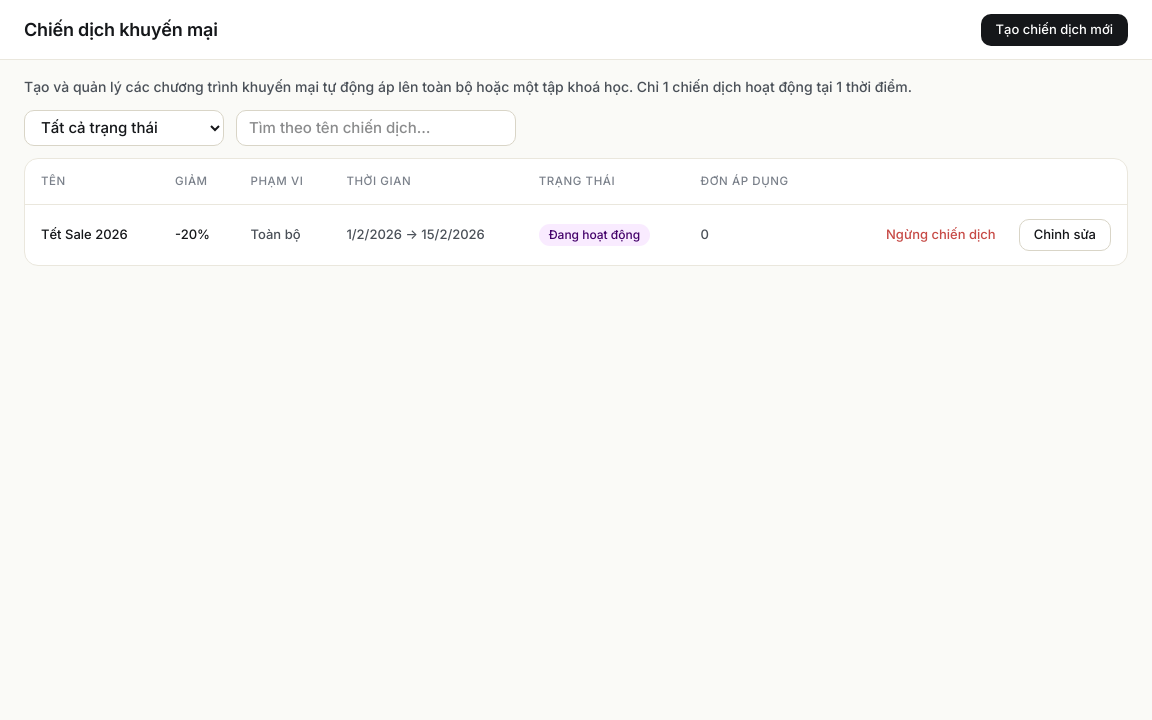
Test: AdminCampaignsPage › shows the overlap error when the RPC raises campaign_overlap_with_existing
The image size is (1152, 720).
Click the button with test id "admin-campaigns-create-btn" at (1054, 30), box [980,14,1128,46]
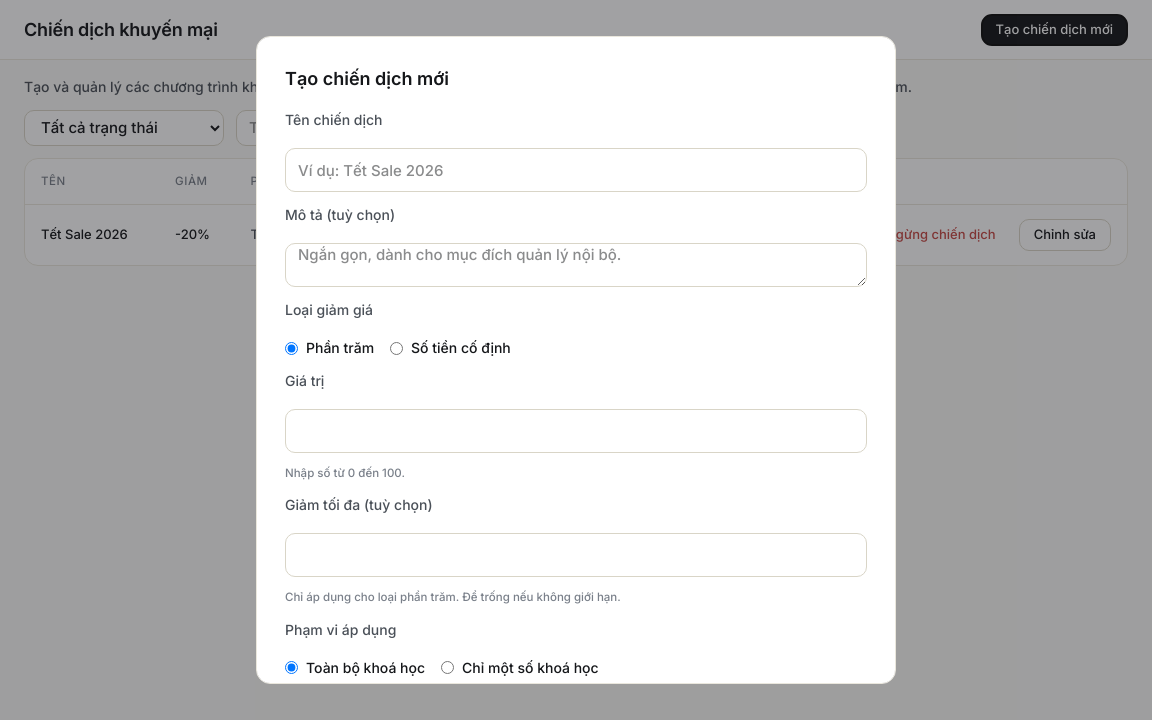
Type "Overlap" into the field with test id "campaign-name-input" at (576, 170), box [285,148,867,192]
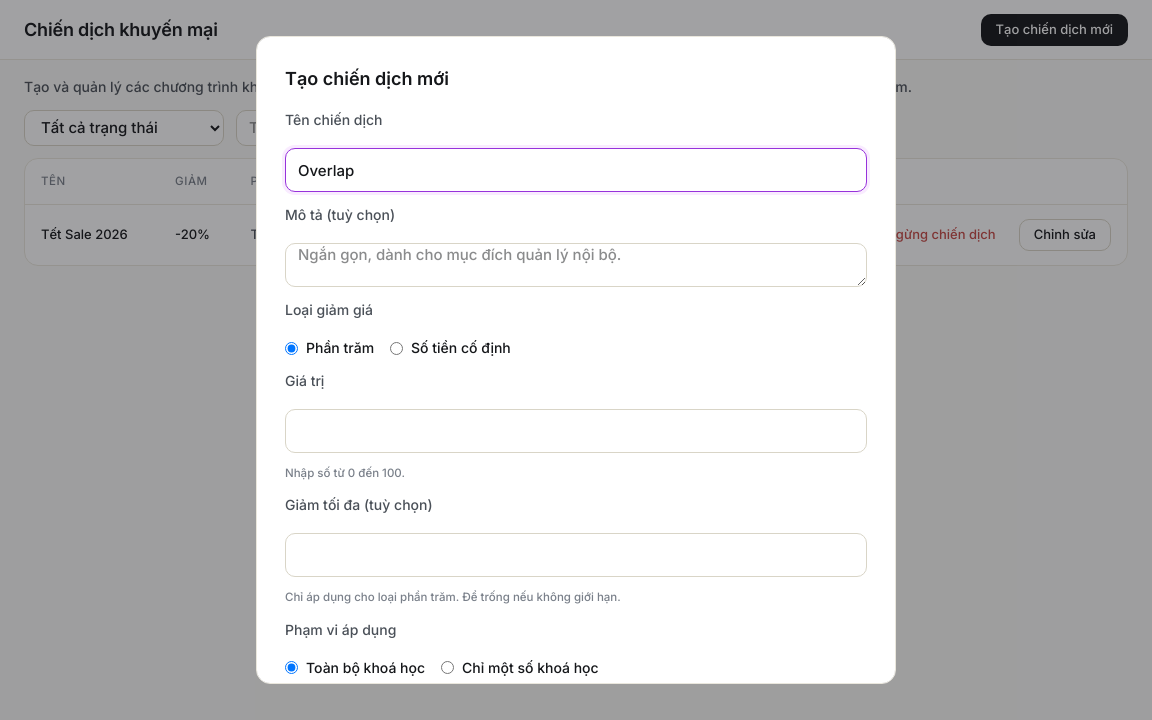
Type "10" into the field with test id "campaign-discount-value-input" at (576, 431), box [285,409,867,453]
(page scrolled)
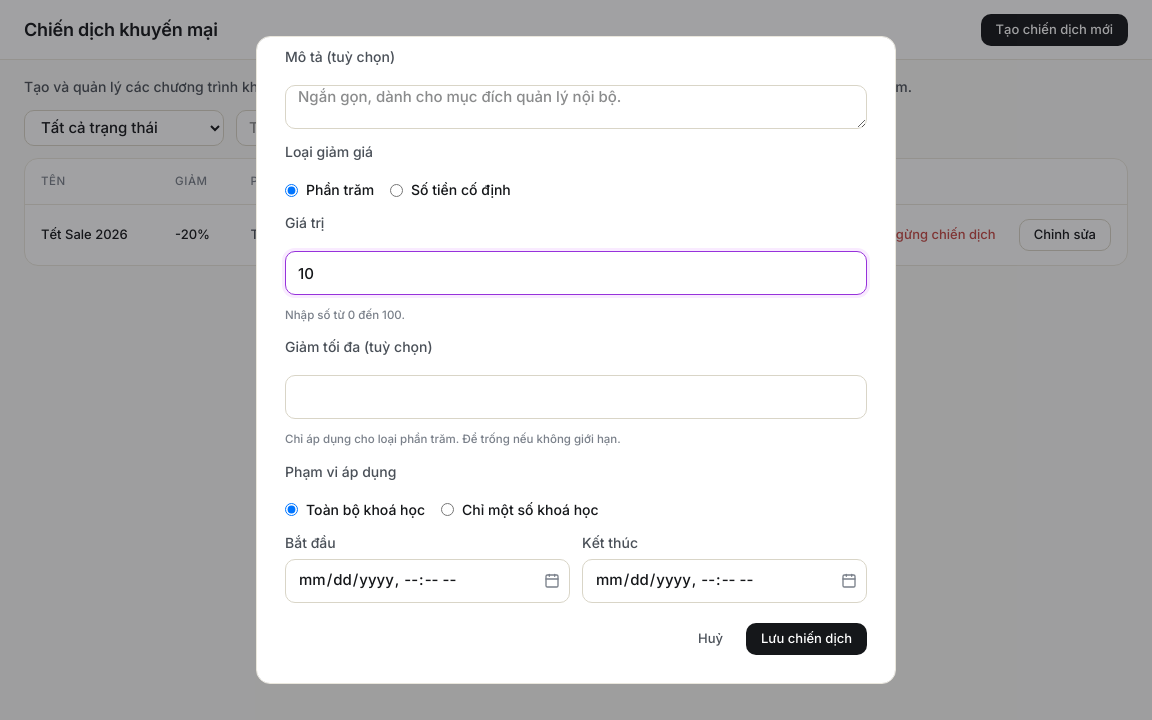
Type "2026-02-05T00:00" into the field with test id "campaign-starts-at-input" at (428, 580), box [285,558,570,602]
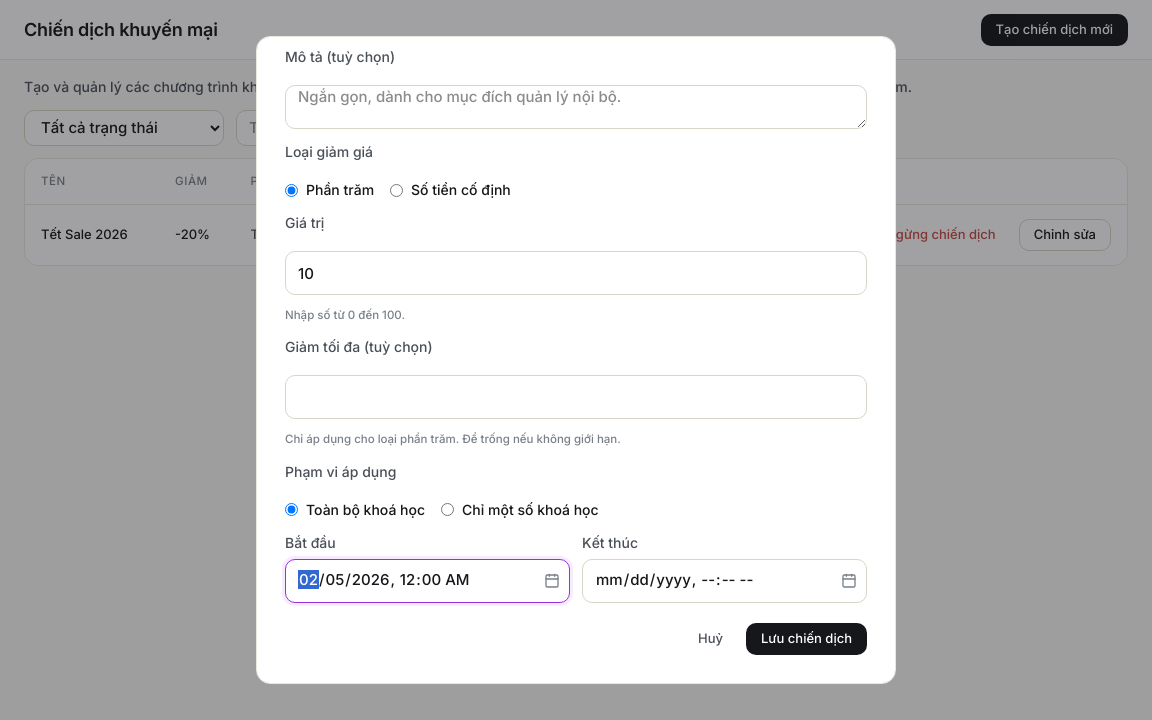
Type "2026-02-20T00:00" into the field with test id "campaign-ends-at-input" at (724, 580), box [582,558,867,602]
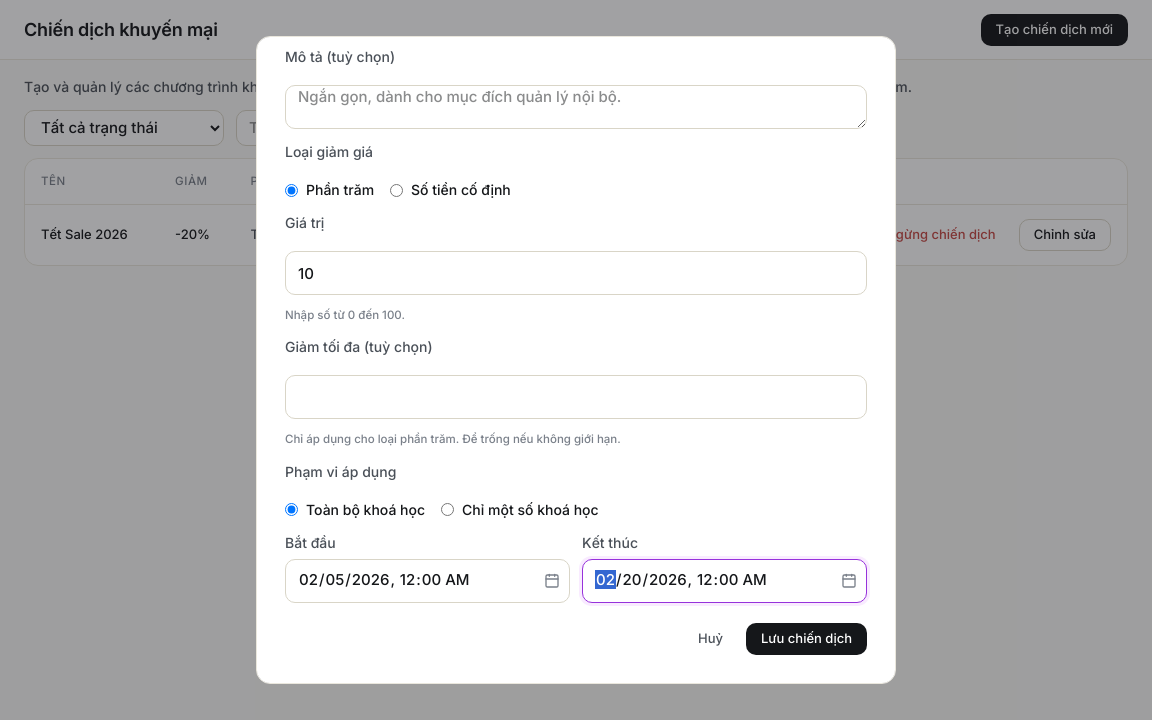
Click the button with test id "admin-campaigns-save-btn" at (806, 638), box [746,622,867,654]
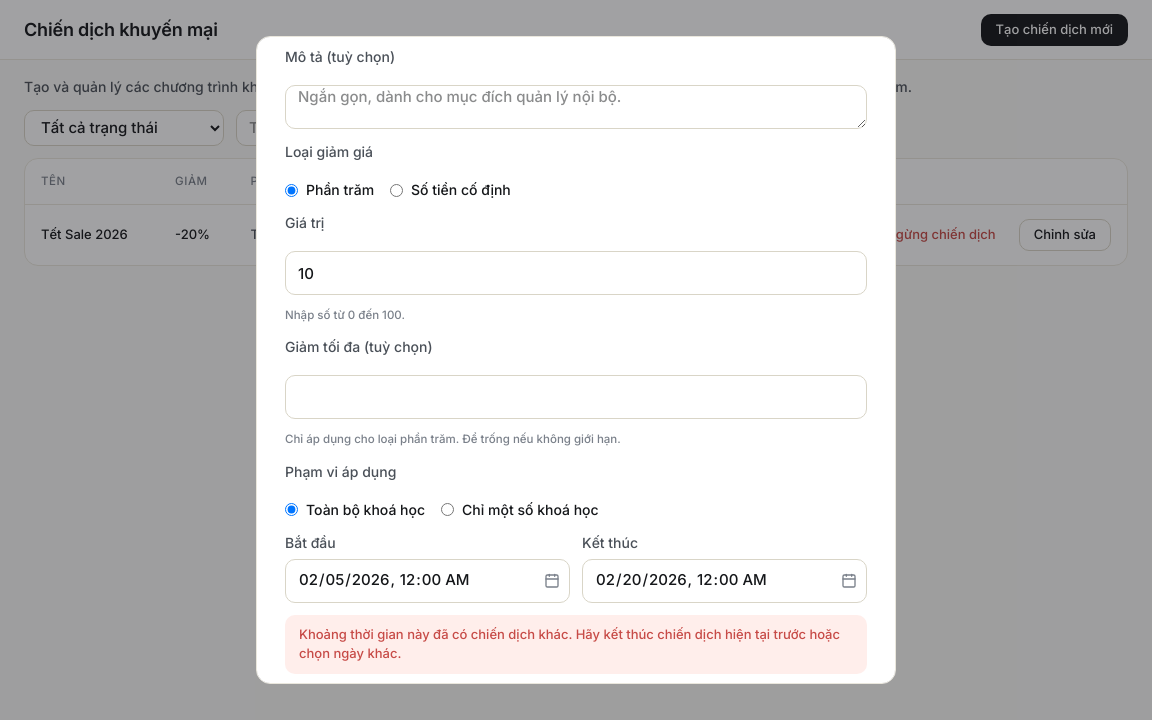
Now the message with test id "admin-campaigns-form-error" shows "Khoảng thời gian này đã có chiến dịch khác", box [299,626,840,661]
